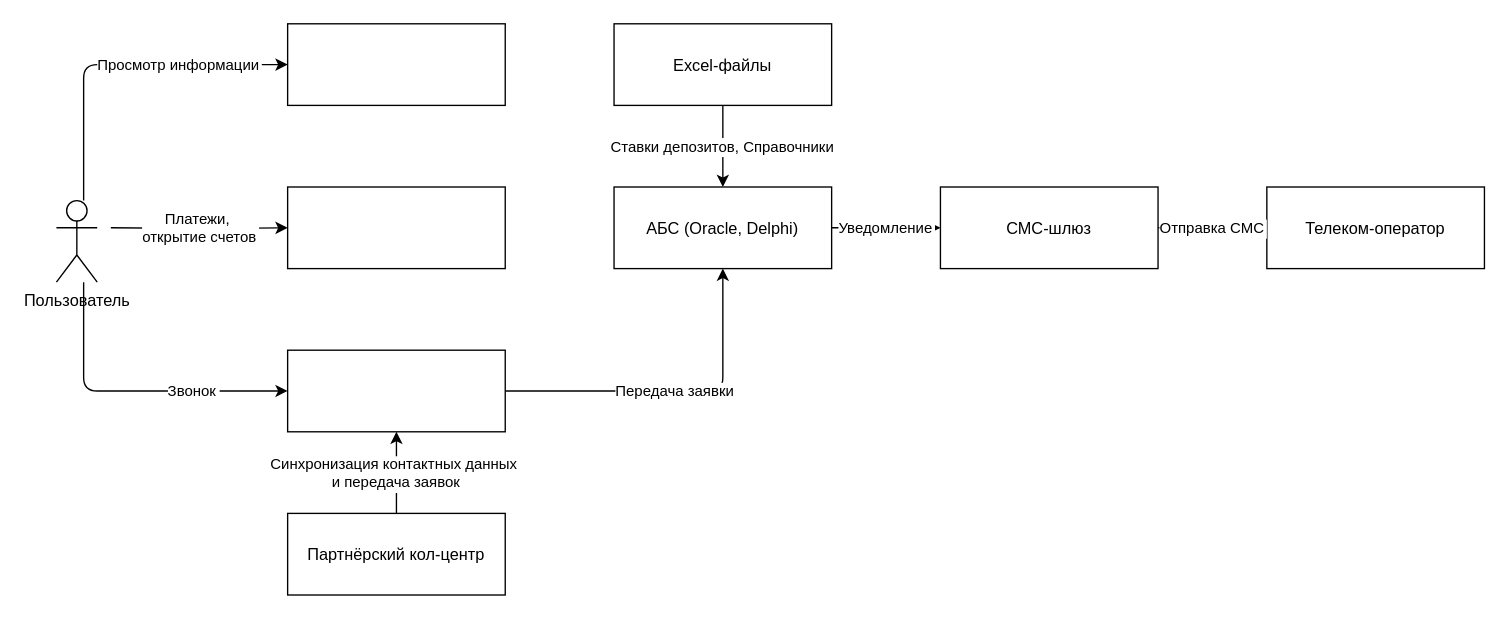
Some shapes in this 1508 by 619 pixel diagram are drawn without their labels. The shapes that lost their labels are listed below. From the top down, each one's centre as x and y in pixels, then its label:
point 395,63: Сайт (PHP+React)
point 395,227: Интернет-банк (ASP.NET)
point 395,390: Система кол-центра
